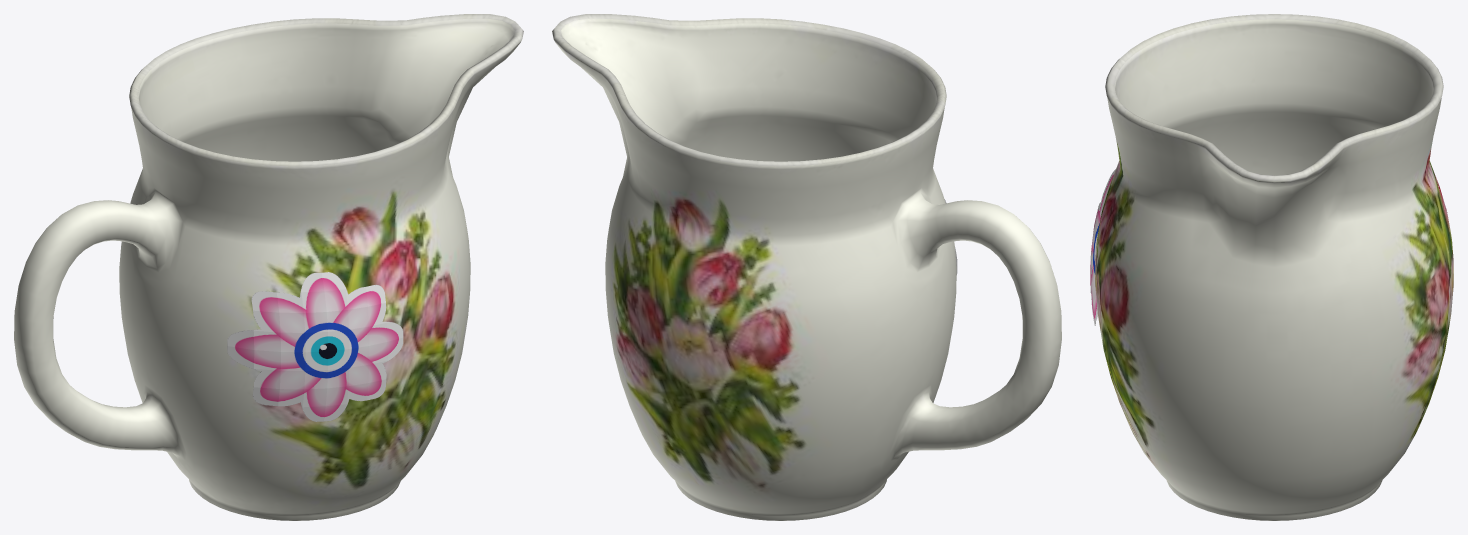
The model's file is nyb_angrymen_pitcher.glb.
3 renders of one model, left to right at view 1: azimuth 30°, elevation 25°; view 2: azimuth 150°, elevation 25°; view 3: azimuth 270°, elevation 25°, orthographic. The views are drawn at different scales.
Visible parts, largest first — view 1: jug_01, stk_eyeflower_die.png; view 2: jug_01; view 3: jug_01, stk_eyeflower_die.png.
Boxes of the visible parts, x1,y1,x2,y2 form: jug_01: (14,14,523,520); stk_eyeflower_die.png: (227,272,403,421); jug_01: (552,14,1061,520); jug_01: (1095,14,1453,520); stk_eyeflower_die.png: (1090,169,1115,325).
Size of the model in its own units: 0.2753 by 0.2113 by 0.1699.
Materials: 2 (2 with a texture image).
